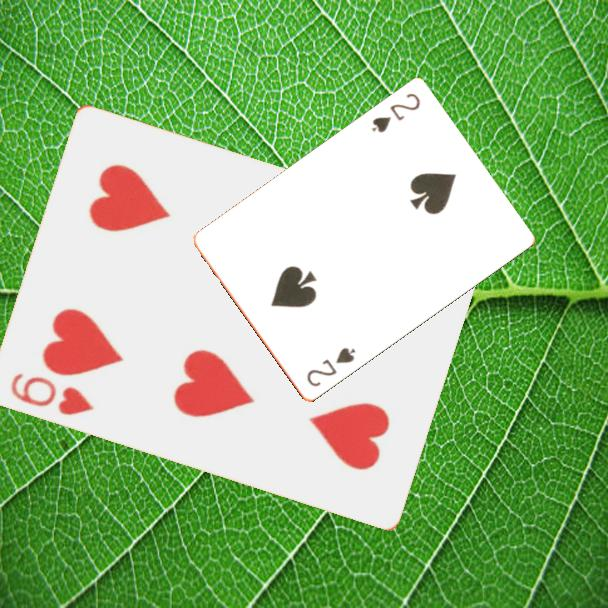h06: (6, 369, 96, 419)
s02: (303, 344, 358, 390), (368, 90, 423, 136)
